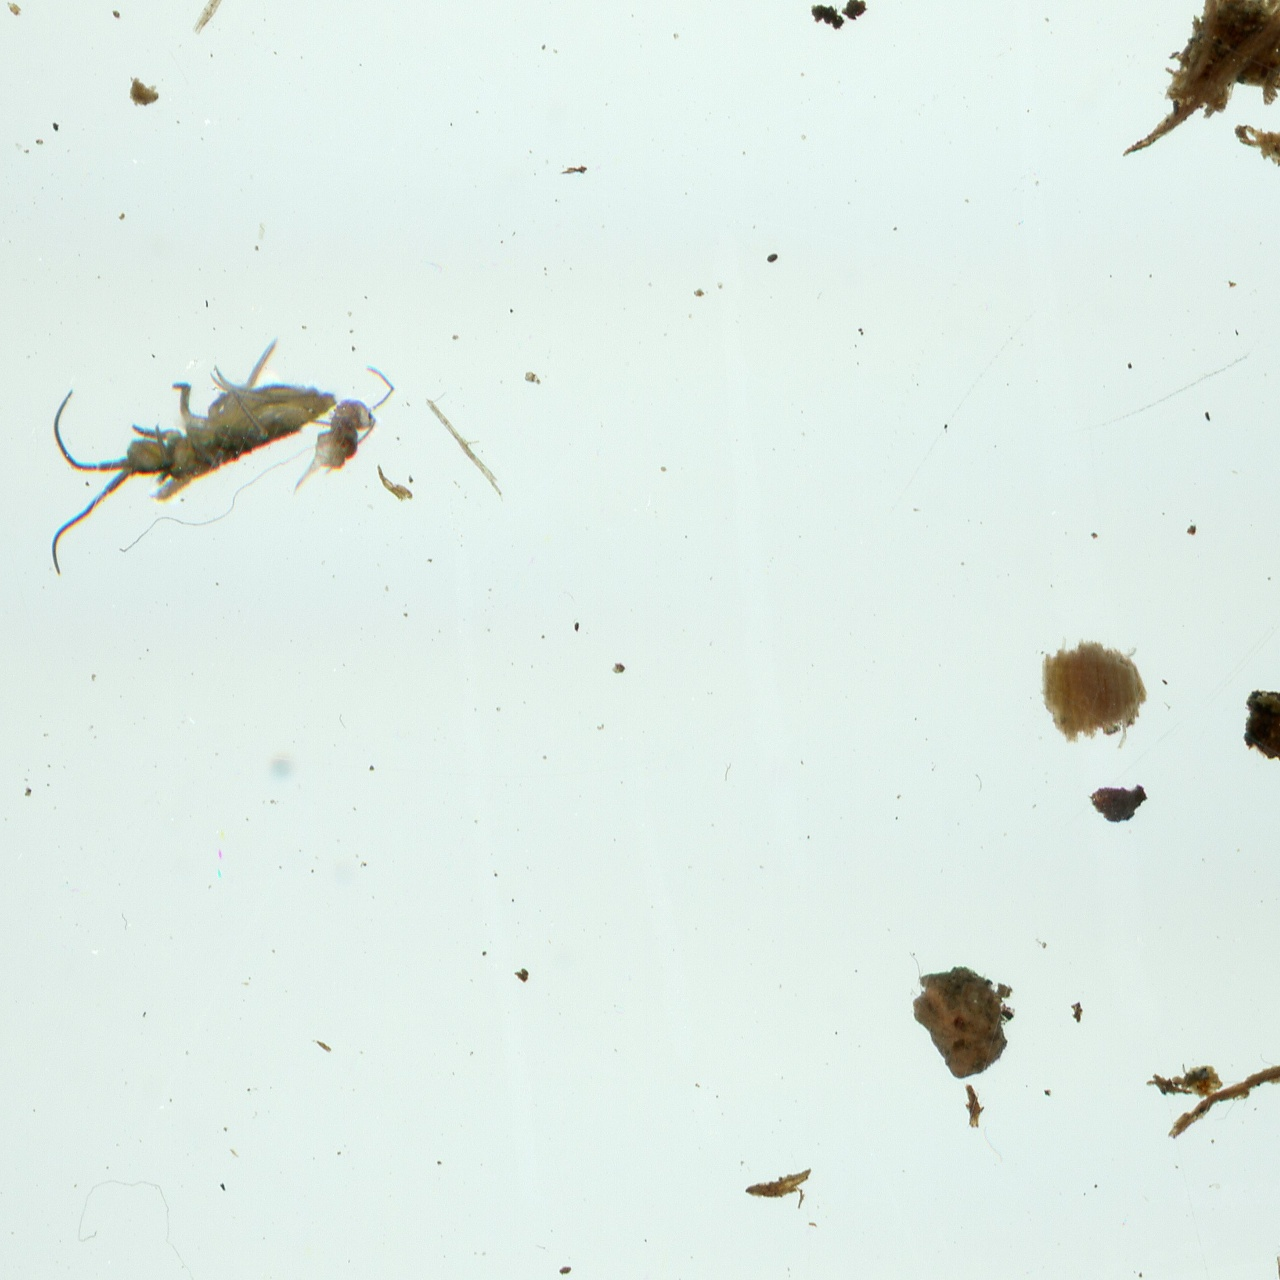arthropod: (0, 284, 365, 581), (268, 347, 407, 522)
